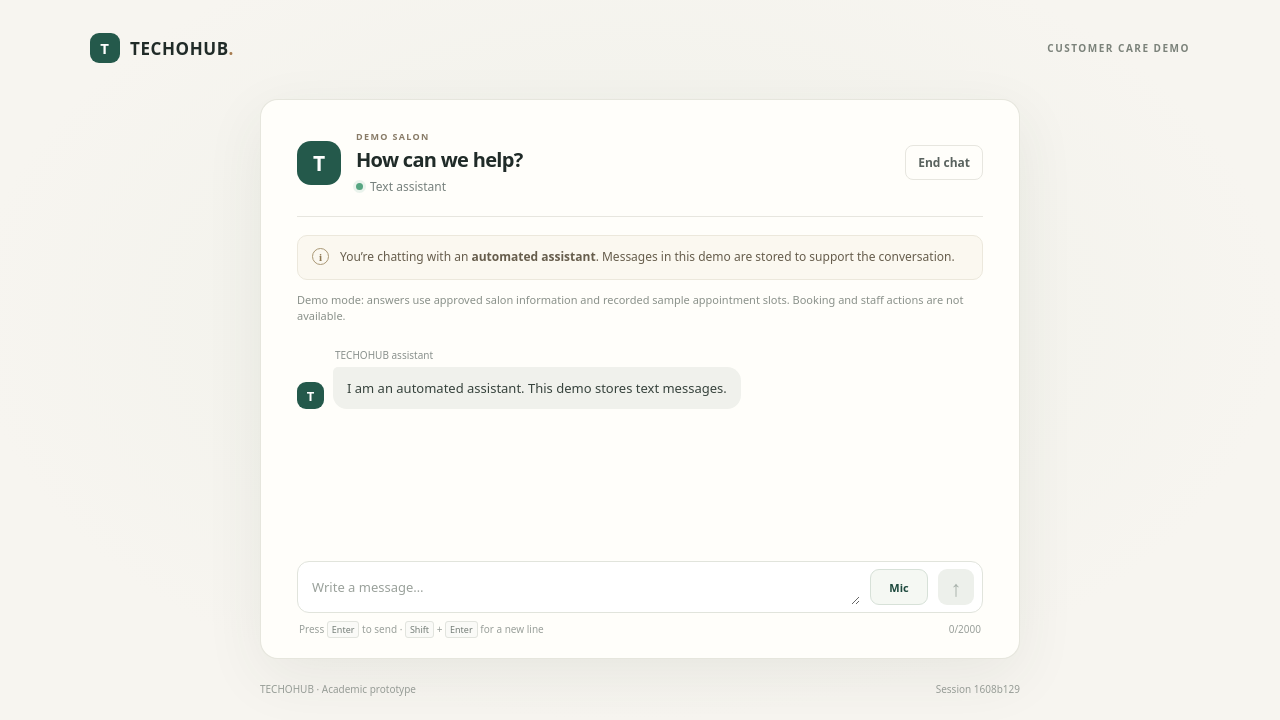
browser text chat › uses the same existing session for voice and subsequent typed messages
The image size is (1280, 720).
Expected: the text "I am an automated assistant. This demo stores text messages." is shown, x1=333 y1=367 x2=741 y2=409
Expected: the text box named "Your message" is shown, x1=312 y1=571 x2=860 y2=605
Click the button with aria-label "Start voice input".
click(899, 587)  # box x1=870 y1=569 x2=928 y2=605
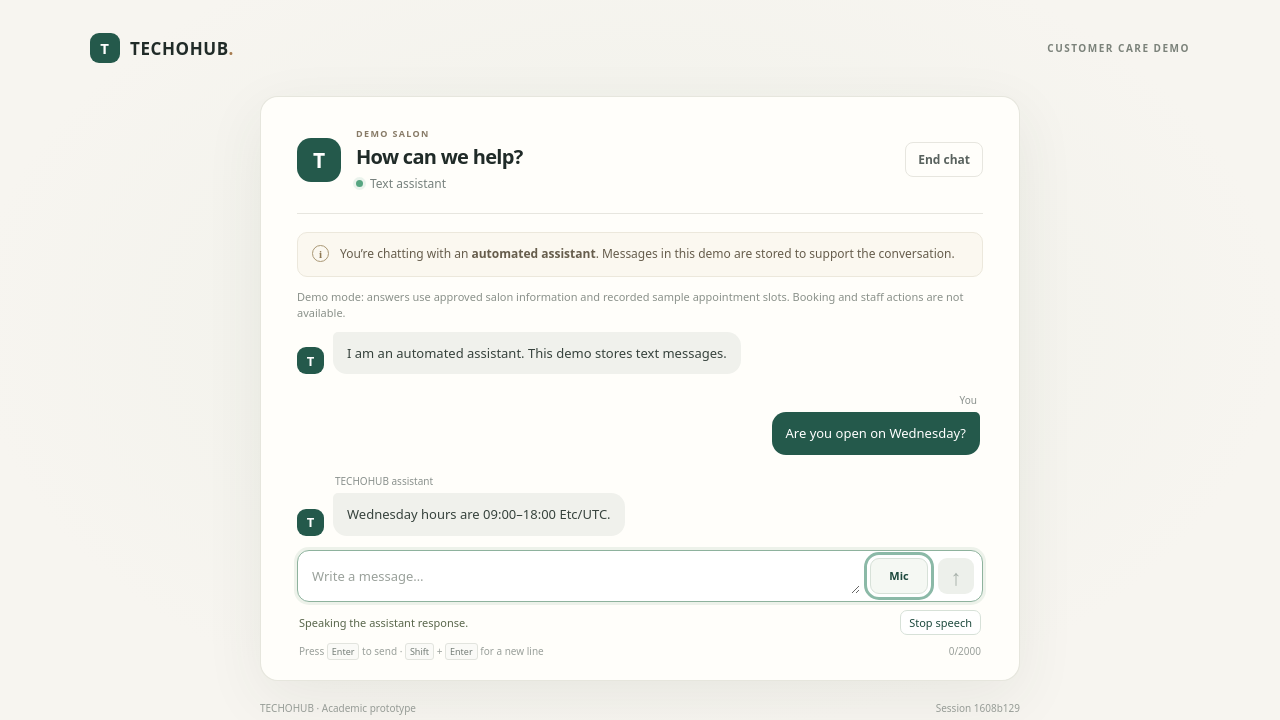
Expected: the text "Wednesday hours are 09:00–18:00 Etc/UTC." is shown, x1=333 y1=493 x2=625 y2=536
Type "How much is a haircut?" into the text box named "Your message".
click(586, 577); type("How much is a haircut?")  # box x1=312 y1=560 x2=860 y2=594
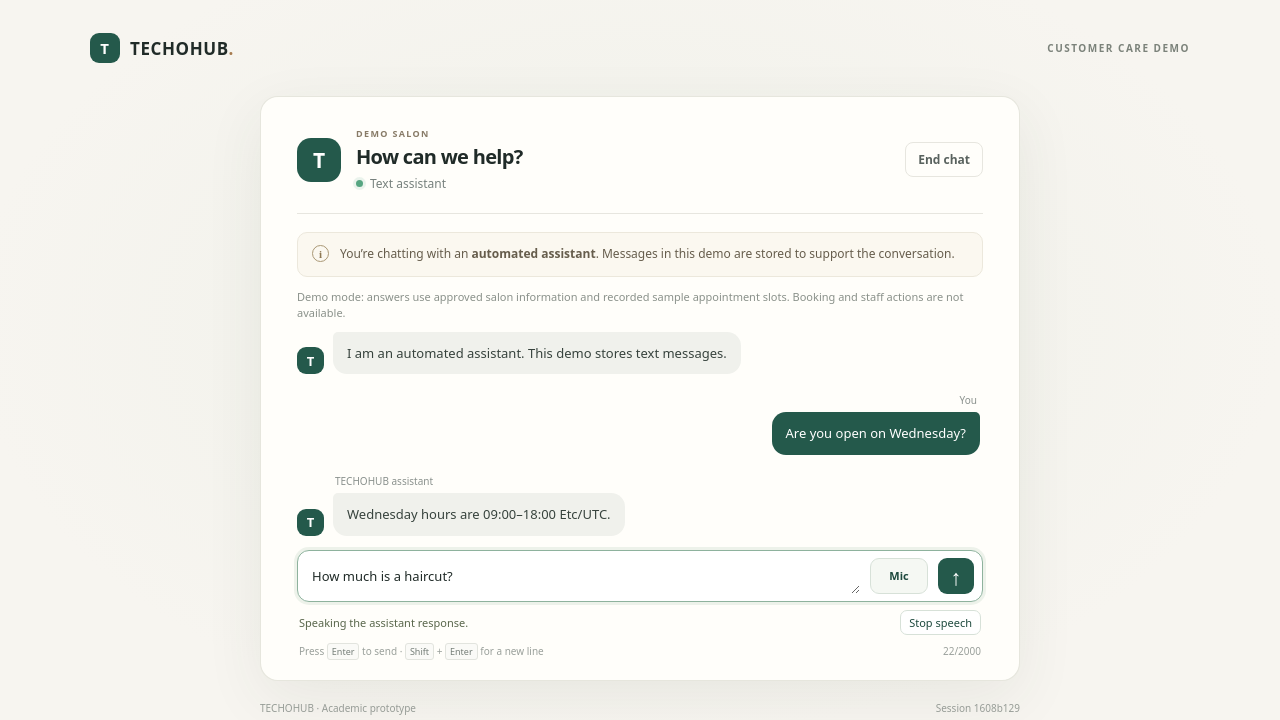
Press Enter
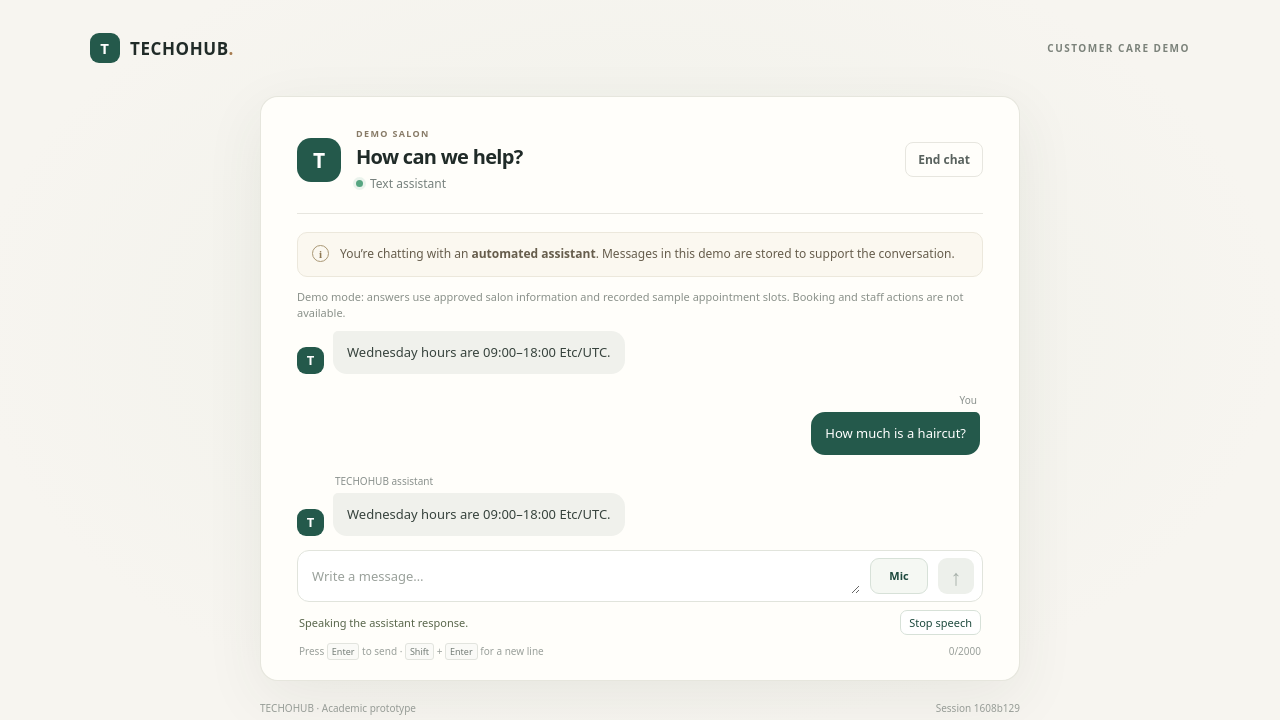
Expected: the text "How much is a haircut?" is shown, x1=811 y1=412 x2=980 y2=455
